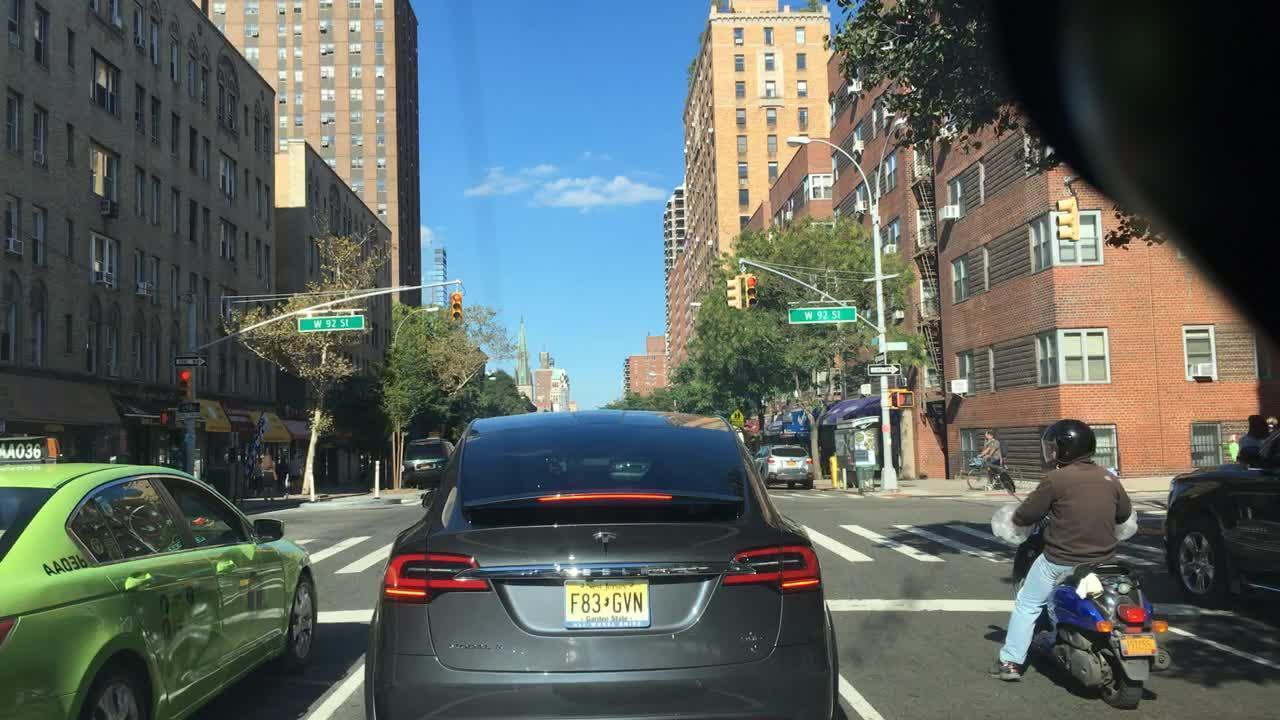no class: (587, 525, 623, 557)
